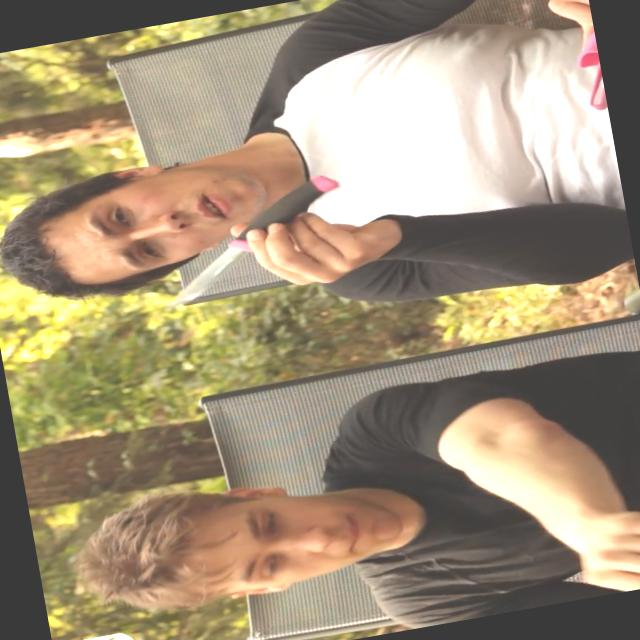knife: (122, 165, 365, 328)
